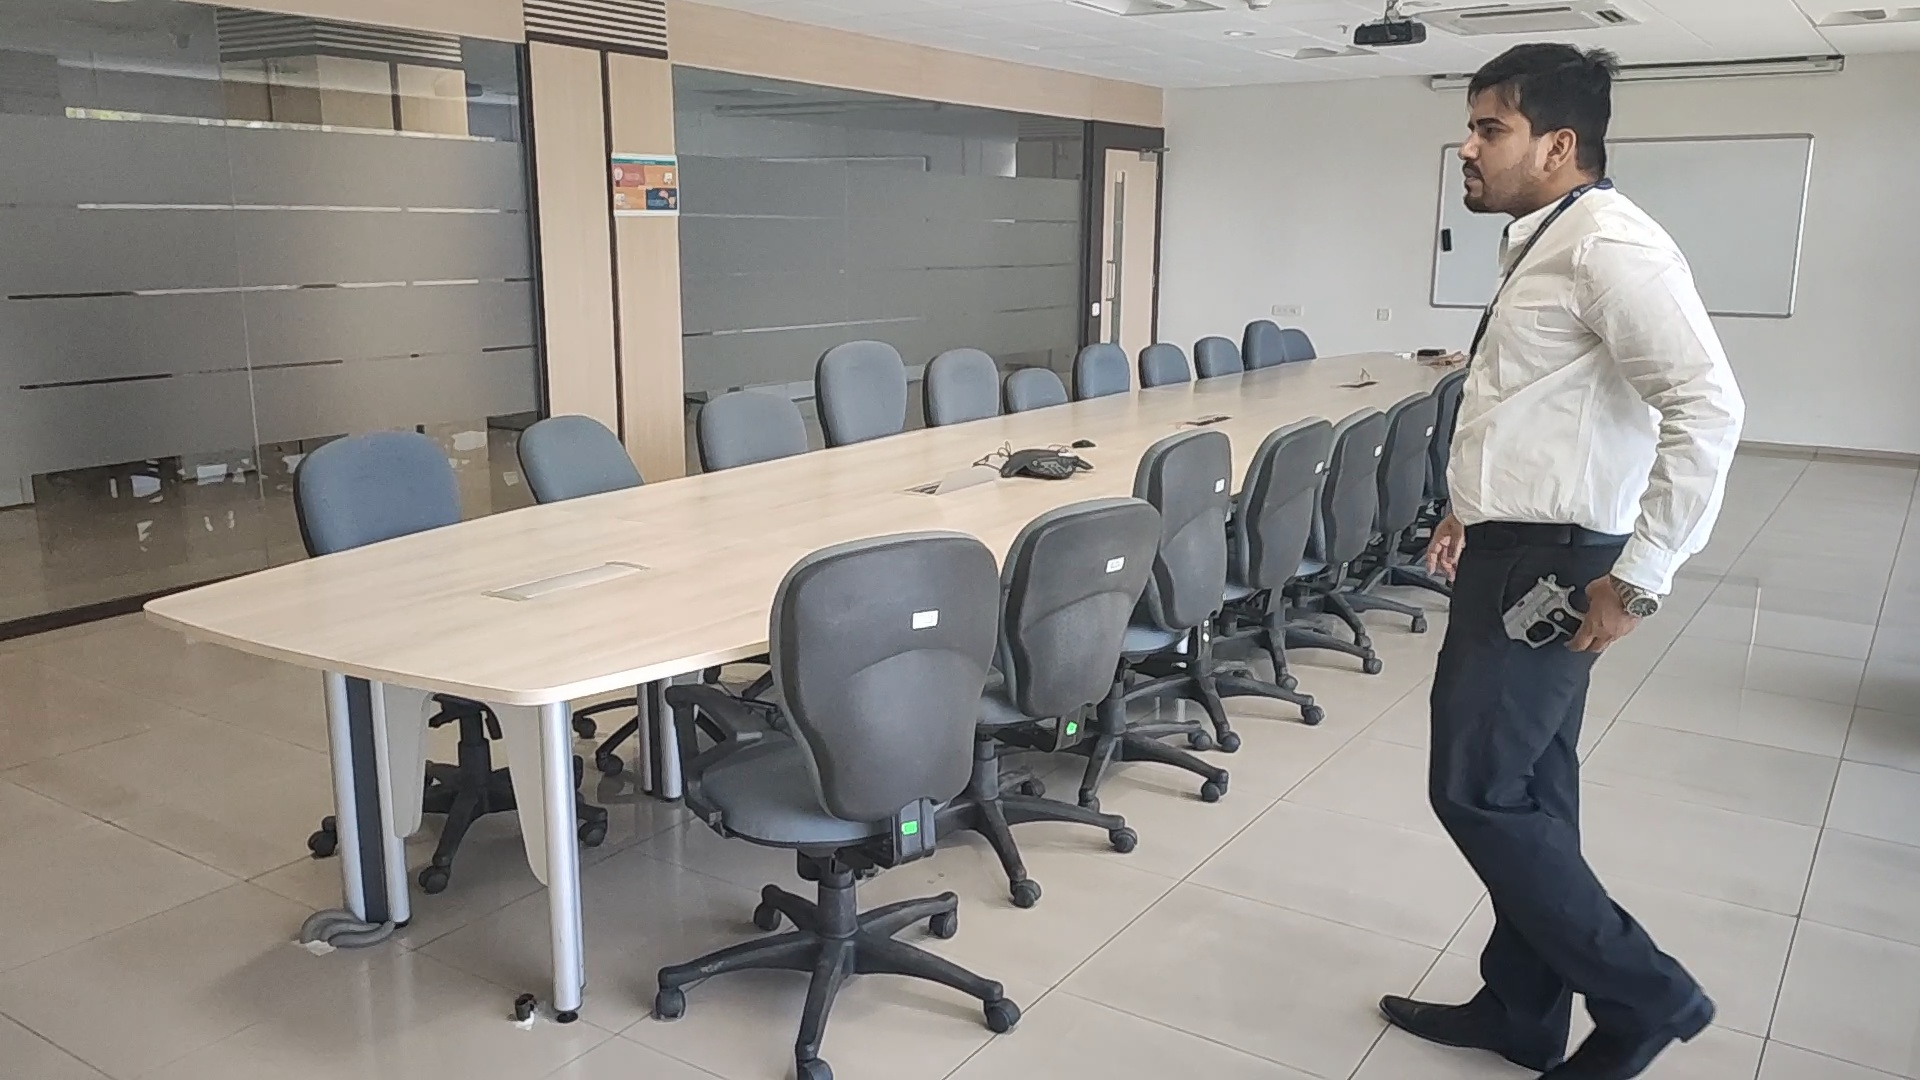gun: (1502, 574, 1580, 647)
